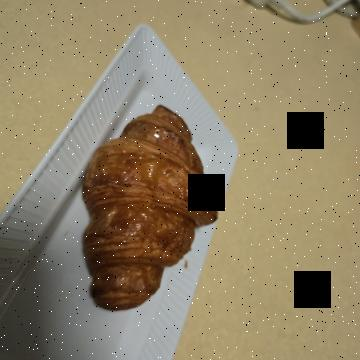croissant: (99, 127, 321, 284)
